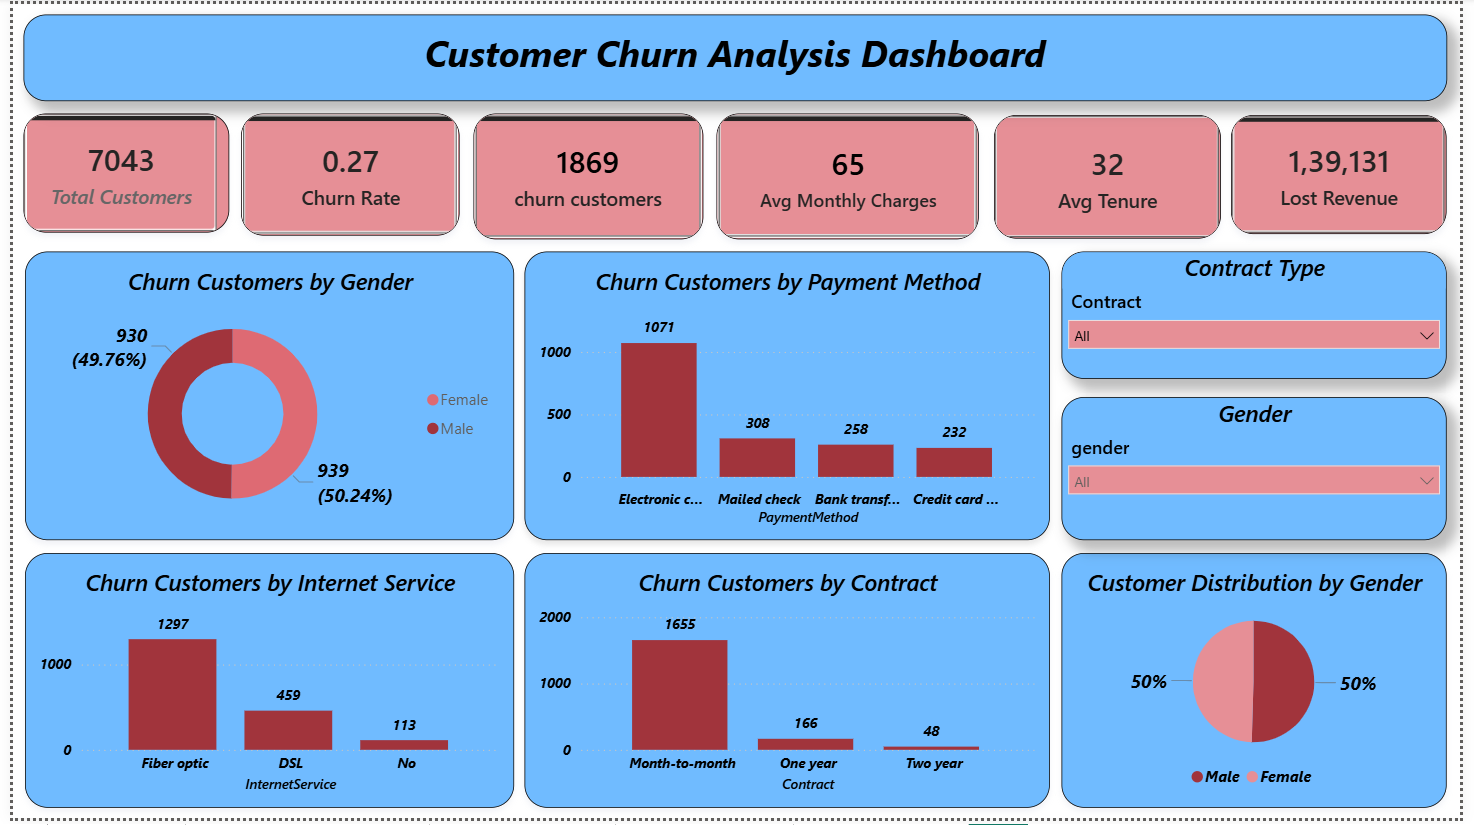

This screenshot's page, from the dashboard's own definition file:
{"tool":"powerbi","page":{"name":"Overview","canvas":[1280,720],"ordinal":0},"visuals":[{"type":"cardVisual","fields":{"Data":["WA_Fn-UseC_-Telco-Customer-Churn.Total Customers"]},"box":[8.7,96.7,181.8,105.3],"z":0},{"type":"cardVisual","fields":{"Data":["WA_Fn-UseC_-Telco-Customer-Churn.Churn Rate"]},"box":[202,96.7,193.3,108.2],"z":1000},{"type":"cardVisual","fields":{"Data":["WA_Fn-UseC_-Telco-Customer-Churn.churn customers"]},"box":[406.9,96.7,203.4,111.1],"z":2000},{"type":"cardVisual","fields":{"Data":["WA_Fn-UseC_-Telco-Customer-Churn.Avg Monthly Charges"]},"box":[621.8,96.7,232.3,111.1],"z":3000},{"type":"cardVisual","fields":{"Data":["WA_Fn-UseC_-Telco-Customer-Churn.Avg Tenure"]},"box":[867.1,98.1,200.5,109.6],"z":4000},{"type":"pieChart","title":"Customer Distribution by Gender","fields":{"Category":["WA_Fn-UseC_-Telco-Customer-Churn.gender"],"Y":["CountNonNull(WA_Fn-UseC_-Telco-Customer-Churn.customerID)"]},"box":[927.7,486.2,340.5,225.1],"z":5000},{"type":"clusteredColumnChart","title":"Churn Customers by Gender","fields":{"Category":["WA_Fn-UseC_-Telco-Customer-Churn.gender"],"Y":["WA_Fn-UseC_-Telco-Customer-Churn.churn customers"]},"box":[10.1,219.3,432.8,255.4],"z":6000},{"type":"slicer","title":"Contract Type","fields":{"Values":["WA_Fn-UseC_-Telco-Customer-Churn.Contract"]},"box":[927.7,219.3,340.5,112.5],"z":7000},{"type":"clusteredColumnChart","title":"Churn Customers by Contract","fields":{"Category":["WA_Fn-UseC_-Telco-Customer-Churn.Contract"],"Y":["WA_Fn-UseC_-Telco-Customer-Churn.churn customers"]},"box":[453,486.2,464.6,225.1],"z":8000},{"type":"clusteredColumnChart","title":"Churn Customers by Internet Service","fields":{"Category":["WA_Fn-UseC_-Telco-Customer-Churn.InternetService"],"Y":["WA_Fn-UseC_-Telco-Customer-Churn.churn customers"]},"box":[10.1,486.2,432.8,225.1],"z":9000},{"type":"clusteredColumnChart","title":"Churn Customers by Payment Method","fields":{"Category":["WA_Fn-UseC_-Telco-Customer-Churn.PaymentMethod"],"Y":["WA_Fn-UseC_-Telco-Customer-Churn.churn customers"]},"box":[453,219.3,464.6,255.4],"z":10000},{"type":"cardVisual","fields":{"Data":["WA_Fn-UseC_-Telco-Customer-Churn.Lost Revenue"]},"box":[1077.7,98.1,190.4,105.3],"z":11000},{"type":"slicer","title":"Gender","fields":{"Values":["WA_Fn-UseC_-Telco-Customer-Churn.gender"]},"box":[927.7,347.7,340.5,127],"z":12000},{"type":"textbox","box":[8.7,8.7,1259.5,76.5],"z":13000}]}

Visuals, with their boxes in screenshot pixels (x1, y1, x2, y2), scaled from the page's 1280x720 canvas onto the 1474x825 screenshot:
cardVisual - WA_Fn-UseC_-Telco-Customer-Churn.Total Customers: locate(10, 111, 219, 231)
cardVisual - WA_Fn-UseC_-Telco-Customer-Churn.Churn Rate: locate(233, 111, 455, 235)
cardVisual - WA_Fn-UseC_-Telco-Customer-Churn.churn customers: locate(469, 111, 703, 238)
cardVisual - WA_Fn-UseC_-Telco-Customer-Churn.Avg Monthly Charges: locate(716, 111, 984, 238)
cardVisual - WA_Fn-UseC_-Telco-Customer-Churn.Avg Tenure: locate(999, 112, 1229, 238)
"Customer Distribution by Gender" pieChart: locate(1068, 557, 1460, 815)
"Churn Customers by Gender" clusteredColumnChart: locate(12, 251, 510, 544)
"Contract Type" slicer: locate(1068, 251, 1460, 380)
"Churn Customers by Contract" clusteredColumnChart: locate(522, 557, 1057, 815)
"Churn Customers by Internet Service" clusteredColumnChart: locate(12, 557, 510, 815)
"Churn Customers by Payment Method" clusteredColumnChart: locate(522, 251, 1057, 544)
cardVisual - WA_Fn-UseC_-Telco-Customer-Churn.Lost Revenue: locate(1241, 112, 1460, 233)
"Gender" slicer: locate(1068, 398, 1460, 544)
textbox: locate(10, 10, 1460, 98)
